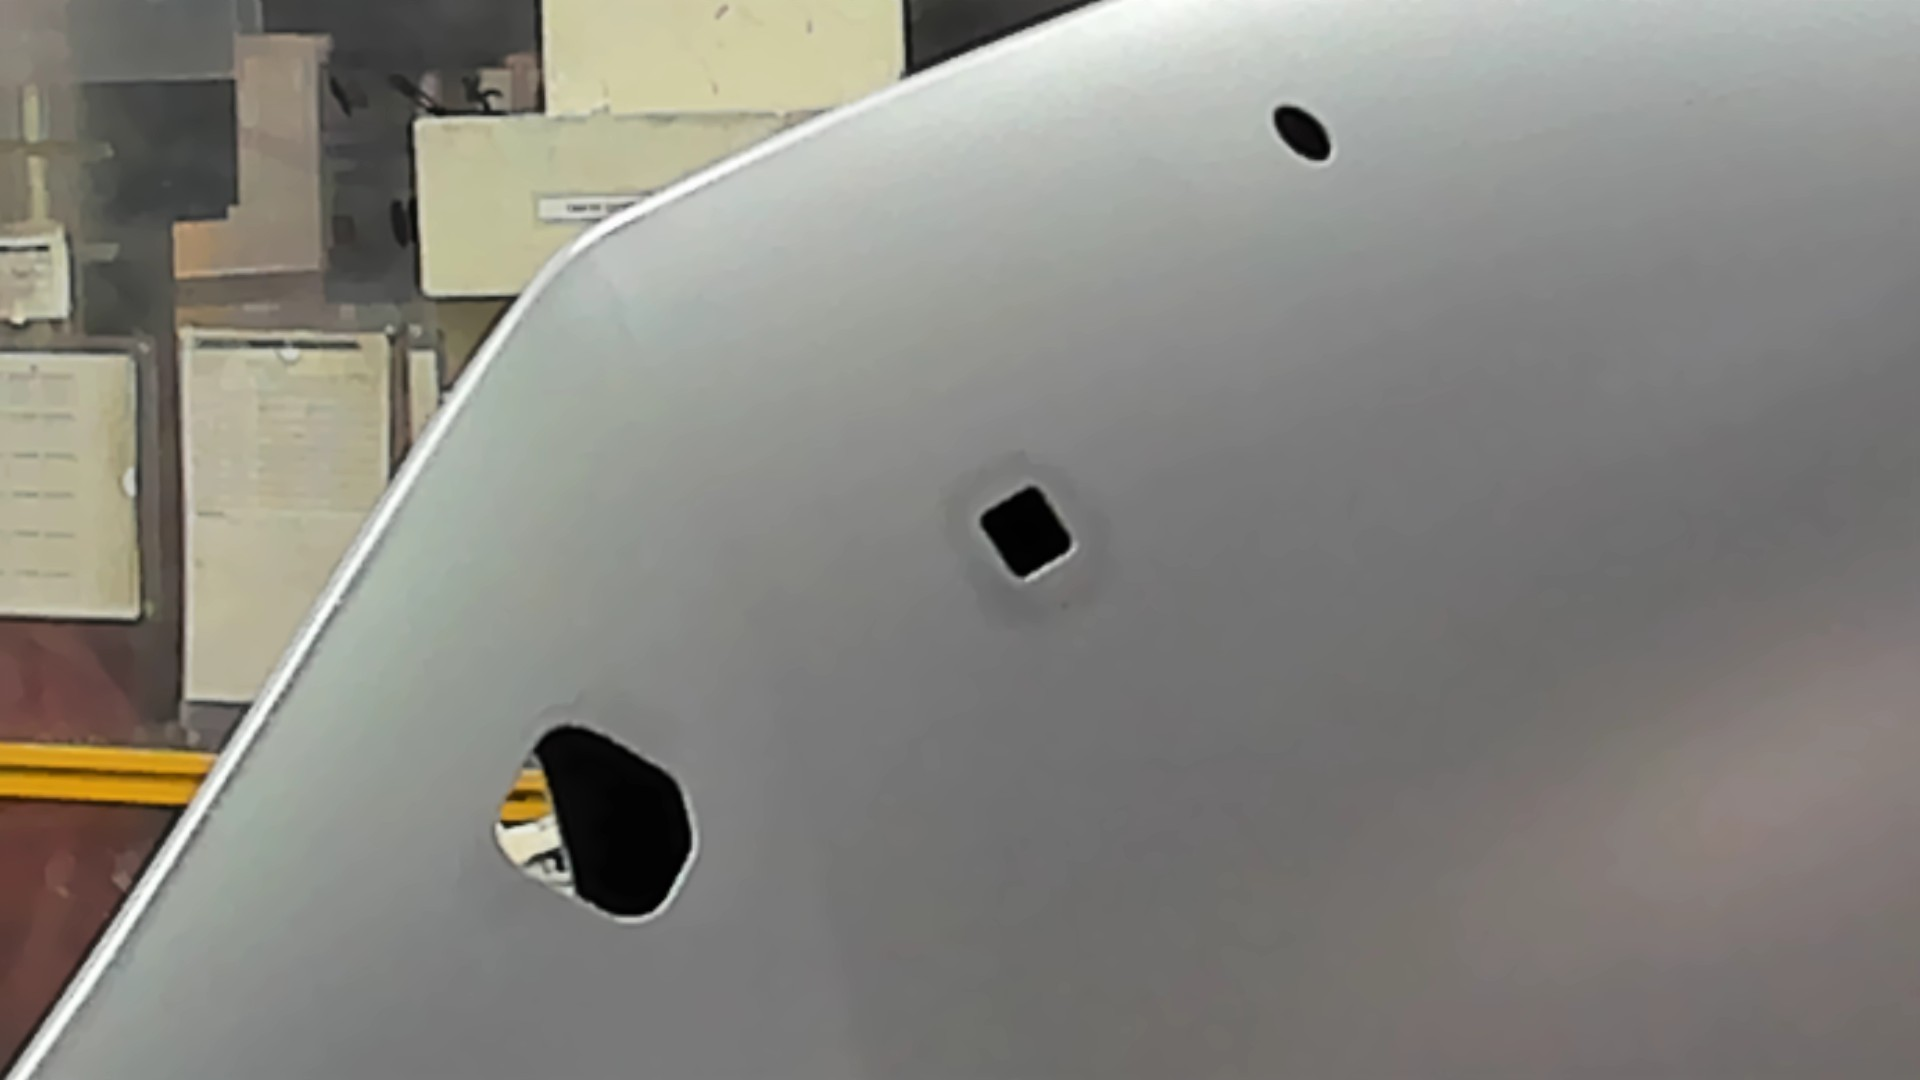chico: (1269, 99, 1336, 170)
grande: (487, 713, 702, 932)
mediano: (969, 479, 1079, 587)
